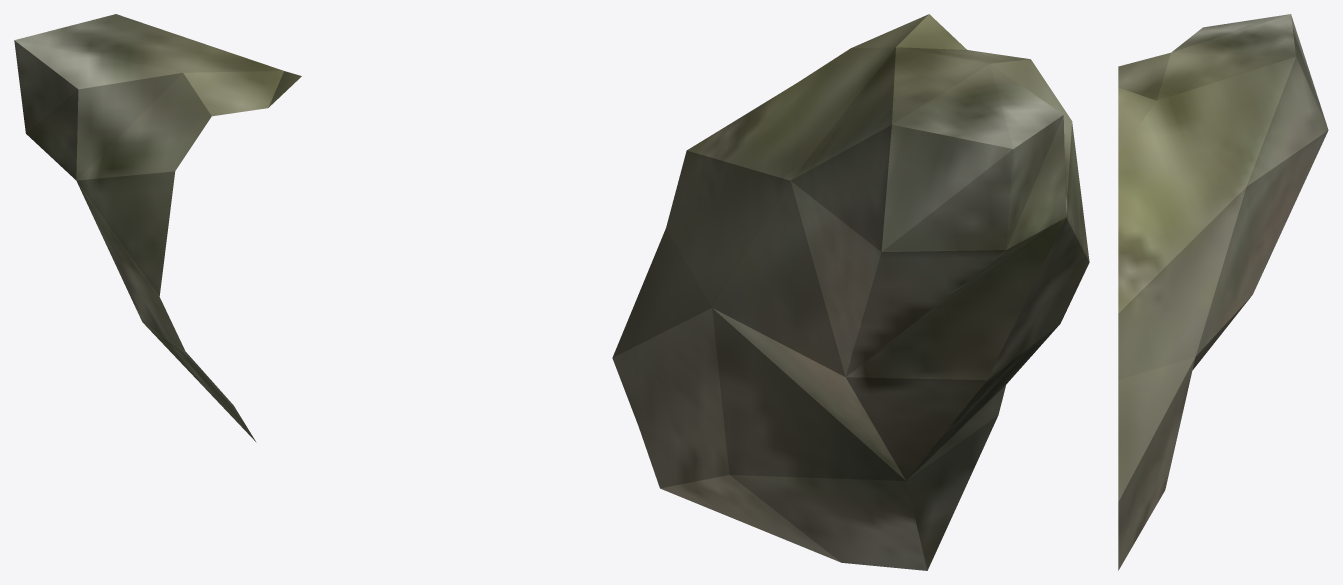
The picture shows the model from 3 angles, left to right: view 1: azimuth 30°, elevation 25°; view 2: azimuth 150°, elevation 25°; view 3: azimuth 270°, elevation 25°; orthographic projection. The views are drawn at different scales.
Bounding box in the file's own units: 0.4468 × 0.4693 × 0.2168.
1 material, 1 textured.
